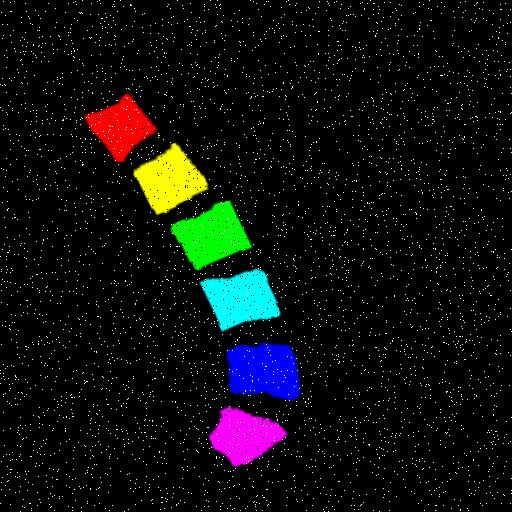L1: (82, 94, 154, 162)
L2: (130, 145, 204, 215)
L3: (168, 202, 246, 271)
L4: (194, 275, 273, 332)
L5: (220, 344, 288, 402)
S1: (200, 406, 277, 468)
